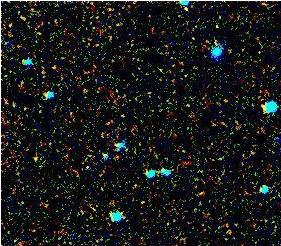star: (19, 142, 49, 172)
